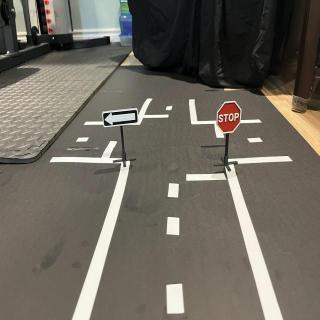sign_oneway_left: (103, 107, 141, 129)
sign_stop: (217, 103, 242, 134)
